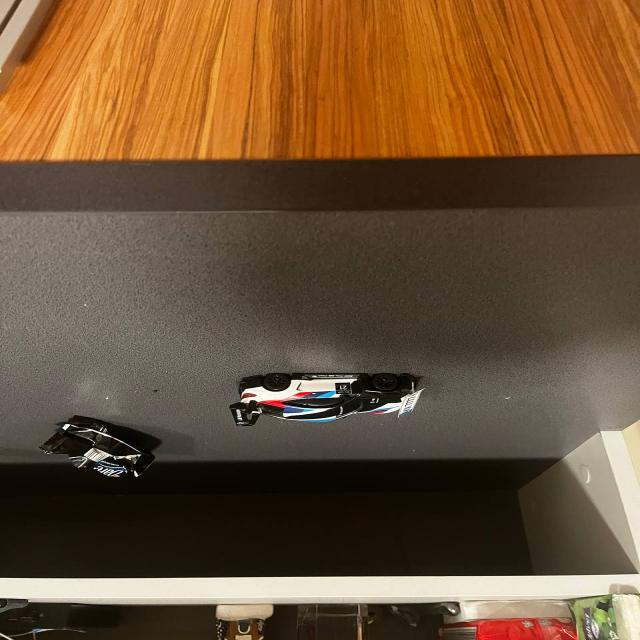cars: (226, 369, 434, 432)
